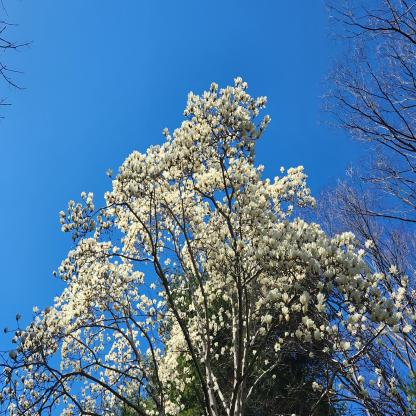Mokuren: (0, 75, 416, 416)
